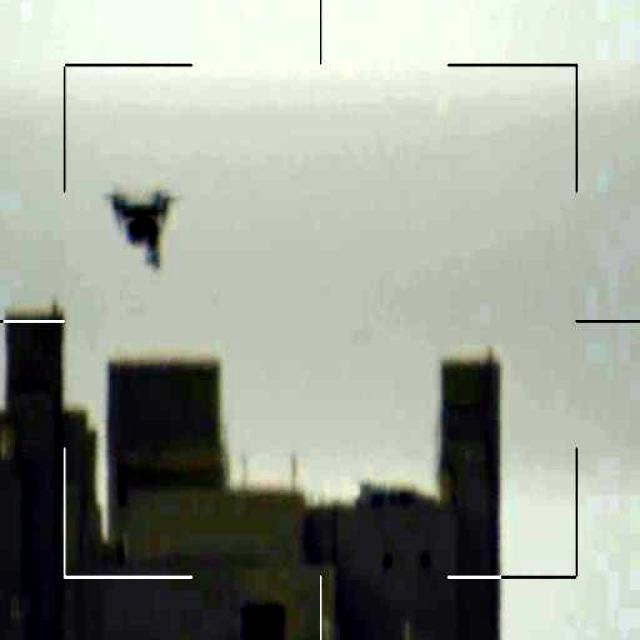bird: (109, 178, 170, 271)
